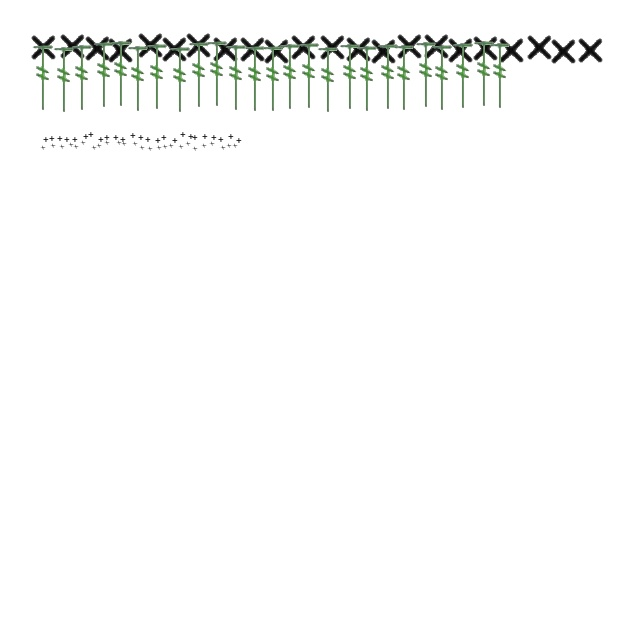double: (58, 30, 88, 62), (106, 34, 136, 66), (422, 30, 452, 62), (446, 34, 476, 66), (576, 34, 606, 66), (136, 30, 166, 60), (160, 34, 190, 64), (184, 30, 214, 60), (238, 34, 268, 64), (262, 36, 292, 66), (318, 32, 348, 62), (344, 34, 374, 64), (84, 32, 112, 64), (396, 30, 424, 62), (472, 32, 500, 64), (498, 34, 526, 66), (30, 32, 58, 62), (212, 34, 240, 64), (290, 32, 318, 62), (370, 36, 398, 66), (526, 32, 554, 62), (550, 36, 578, 66), (49, 136, 55, 142), (57, 136, 63, 142), (83, 134, 89, 140), (88, 132, 94, 138), (155, 138, 161, 144), (172, 138, 178, 144), (180, 132, 186, 138), (188, 134, 194, 140), (202, 134, 208, 140), (228, 134, 234, 140), (236, 138, 242, 144), (59, 144, 65, 150), (68, 142, 74, 148), (73, 144, 79, 150), (80, 140, 86, 146), (104, 140, 110, 146), (116, 140, 122, 146), (147, 146, 153, 152), (162, 144, 168, 150), (178, 144, 184, 150), (192, 146, 198, 152), (43, 138, 49, 142), (64, 138, 70, 142), (72, 138, 78, 142), (98, 138, 104, 142), (104, 136, 110, 140), (113, 136, 119, 140), (120, 138, 126, 142), (130, 134, 136, 138), (138, 136, 144, 140), (145, 138, 151, 142), (161, 136, 167, 140), (192, 136, 198, 140), (211, 136, 217, 140), (218, 138, 224, 142), (40, 146, 46, 150), (50, 144, 56, 148), (91, 146, 97, 150), (96, 144, 102, 148), (121, 142, 127, 146), (132, 142, 138, 146), (139, 146, 145, 150), (156, 146, 162, 150), (168, 144, 174, 148), (185, 142, 191, 146), (201, 144, 207, 148), (209, 142, 215, 146), (220, 146, 226, 150), (226, 144, 232, 148), (232, 144, 238, 148)
fan: (52, 46, 76, 114), (70, 44, 94, 112), (92, 41, 116, 109), (126, 45, 150, 113), (168, 46, 192, 114), (224, 44, 248, 112), (278, 43, 302, 111), (316, 46, 340, 114), (338, 43, 362, 111), (376, 43, 400, 111), (392, 44, 416, 112), (414, 41, 438, 109), (430, 44, 454, 112), (472, 40, 496, 108), (488, 42, 512, 110), (32, 44, 54, 112), (110, 40, 132, 108), (146, 43, 168, 111), (188, 41, 210, 109), (206, 40, 228, 108), (244, 45, 266, 113), (262, 45, 284, 113), (298, 42, 320, 110), (356, 45, 378, 113), (452, 42, 474, 110)
